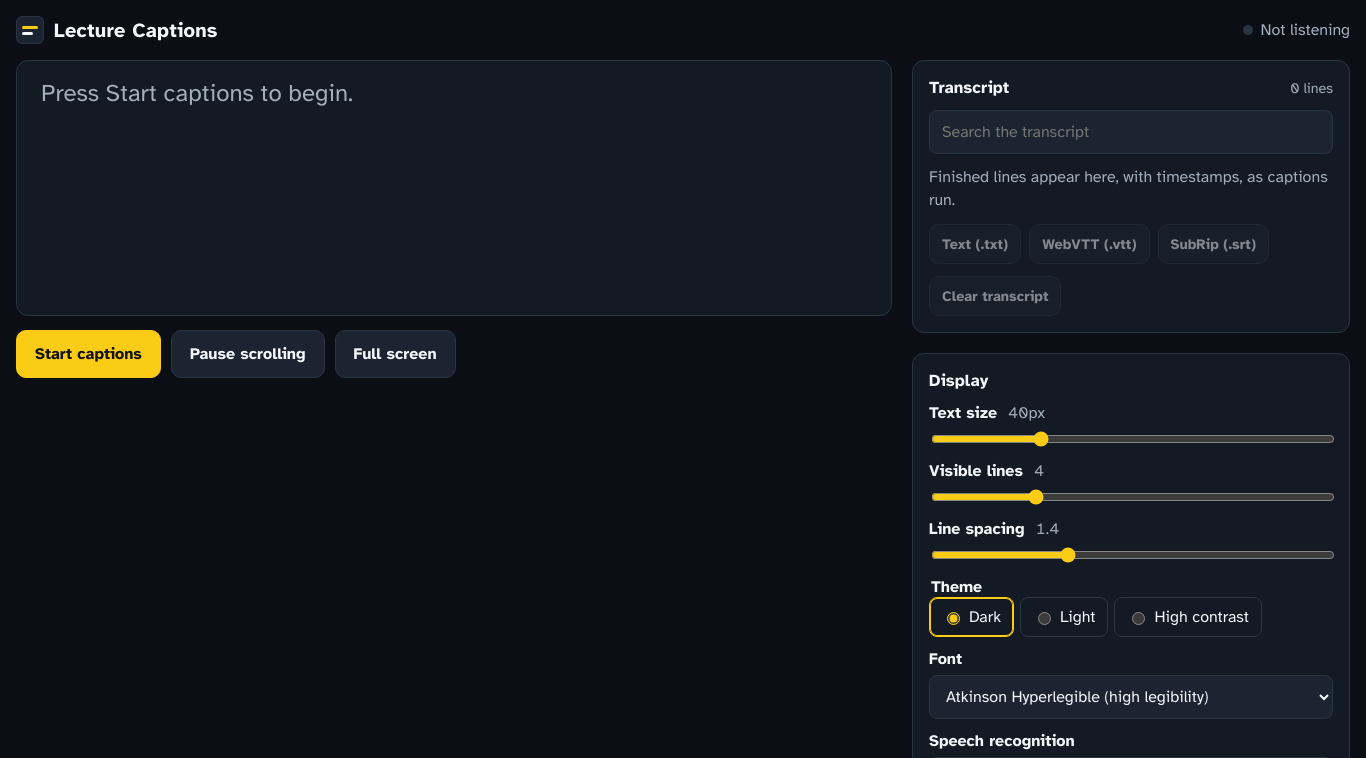
App › shows a clear message when the microphone is blocked
Click the button "Start captions". click: (88, 354)
box: [16,330,161,378]
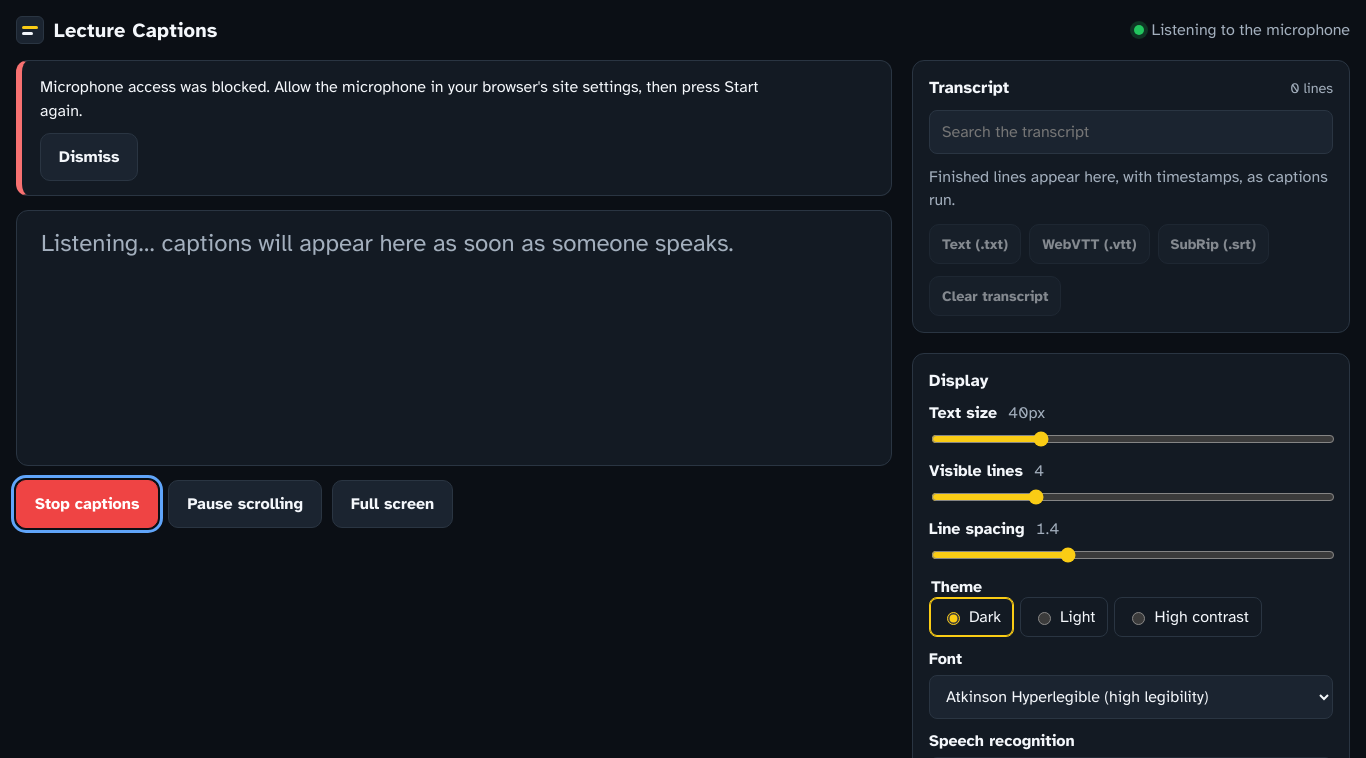
Expected: the 2nd message shows "Microphone access was blocked", [40,77,758,121]
